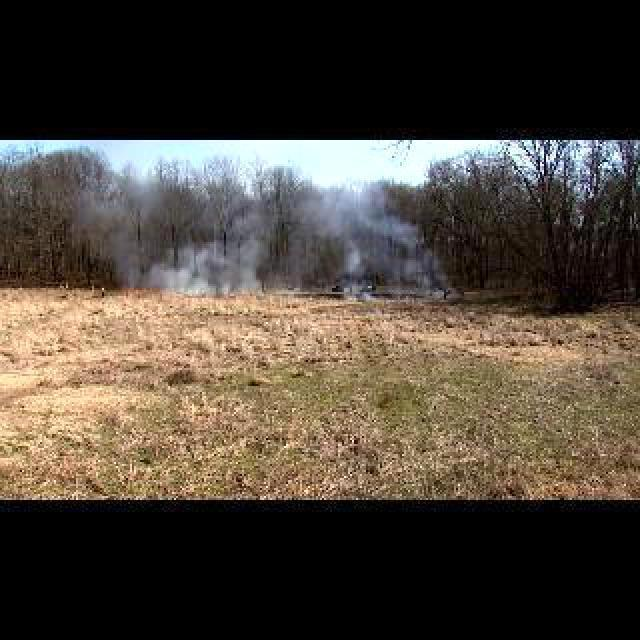Smoke: (75, 140, 274, 298), (277, 140, 441, 294)
